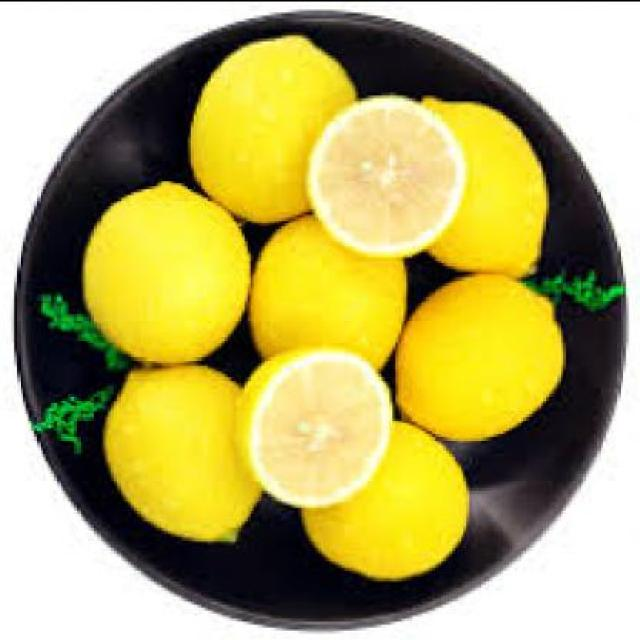BIODEGRADABLE: (188, 29, 362, 222), (85, 176, 253, 361), (398, 270, 572, 438), (247, 211, 410, 386), (304, 412, 476, 577), (106, 358, 260, 538), (235, 342, 398, 506), (310, 89, 470, 253), (424, 92, 551, 270)
